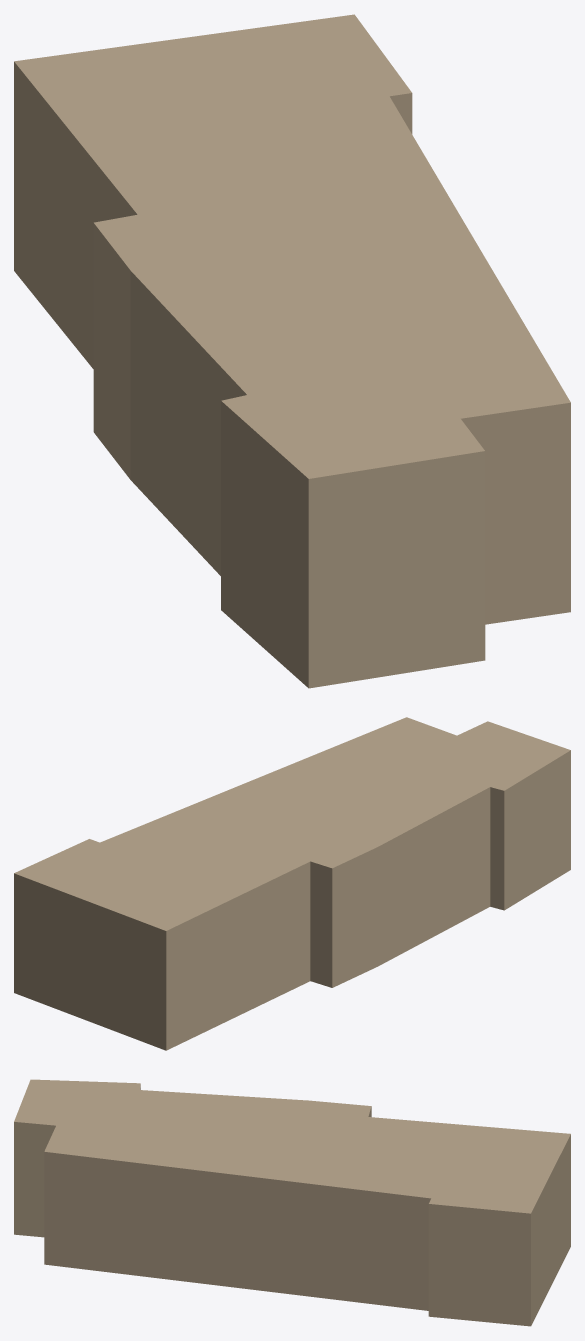
Rendered from bld_98768067.dae.
3 views of the same model, one above another, from view 1: azimuth 30°, elevation 25°; view 2: azimuth 150°, elevation 25°; view 3: azimuth 270°, elevation 25° (orthographic). The views are drawn at different scales.
Parts seen in each view (by area): view 1: Ab Salute Gym; view 2: Ab Salute Gym; view 3: Ab Salute Gym.
Boxes of the visible parts, x1,y1,x2,y2 form: Ab Salute Gym: [14, 14, 570, 688]; Ab Salute Gym: [14, 717, 570, 1050]; Ab Salute Gym: [14, 1079, 570, 1326].
Size of the model in its own units: 20.4 by 35.79 by 8.
